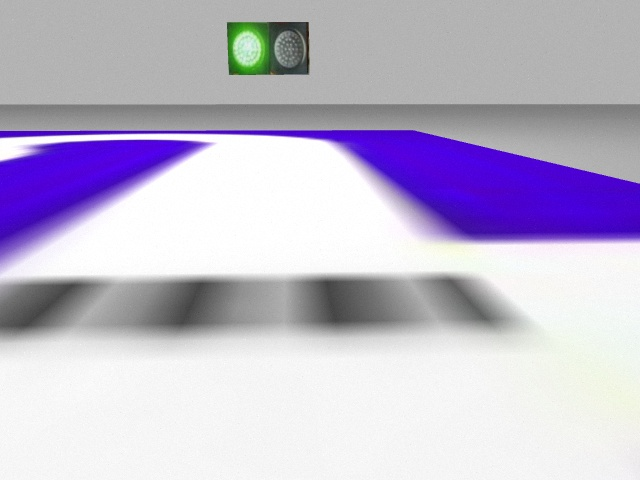green: (227, 22, 271, 74)
